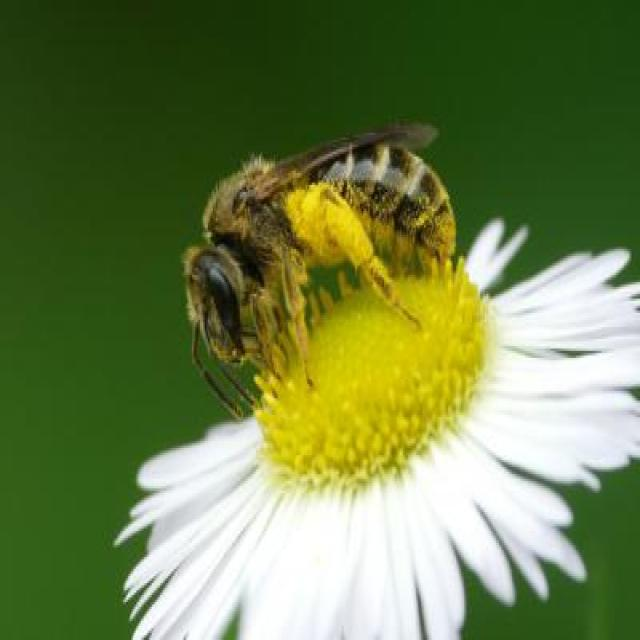antennae: (191, 318, 243, 416), (208, 346, 258, 409)
body: (189, 137, 453, 359)
insect: (180, 113, 454, 427)
legs: (291, 179, 424, 335), (279, 228, 318, 394), (256, 300, 306, 387), (246, 329, 276, 377)
mouthpart: (224, 342, 251, 369)
wings: (242, 124, 439, 210)
